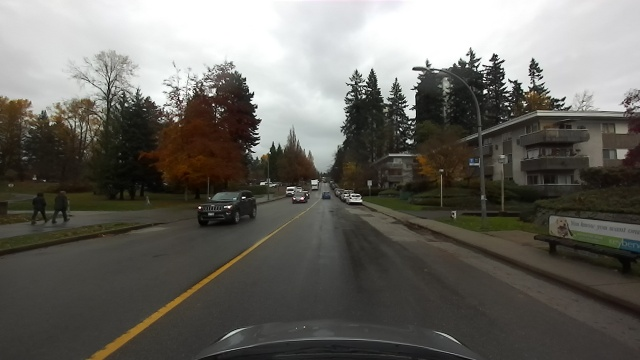car: (193, 189, 261, 230), (288, 189, 310, 203), (346, 192, 363, 206), (309, 179, 320, 191), (320, 191, 331, 200), (286, 186, 296, 195)
